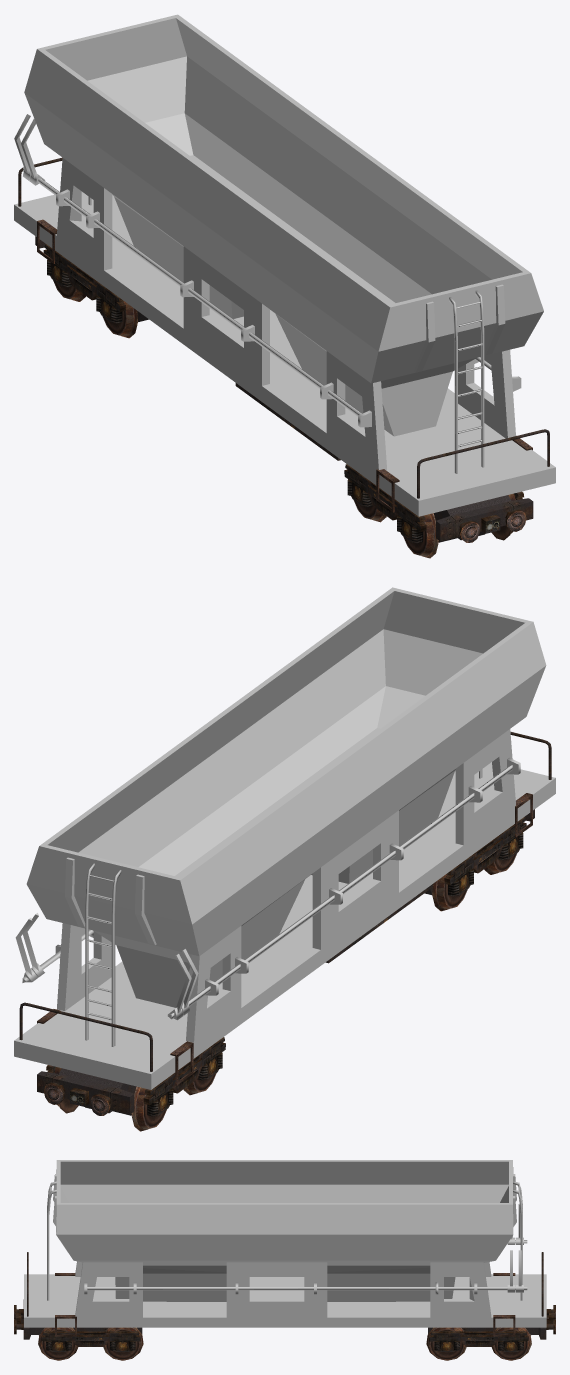
File: Model_Trains_Carriage_Dirt.fbx
3 renders of one model, top to bottom at view 1: azimuth 30°, elevation 25°; view 2: azimuth 150°, elevation 25°; view 3: azimuth 270°, elevation 25°, orthographic. The views are drawn at different scales.
Parts seen in each view (by area): view 1: Train_Carriage_Grond_LOD0; view 2: Train_Carriage_Grond_LOD0; view 3: Train_Carriage_Grond_LOD0.
Part boxes in pixels (x1,y1,x2,y2): Train_Carriage_Grond_LOD0: [14, 14, 555, 558]; Train_Carriage_Grond_LOD0: [14, 587, 555, 1131]; Train_Carriage_Grond_LOD0: [14, 1160, 555, 1360].
Size of what is drawn, in the model's own units: 308 by 437 by 1288.
